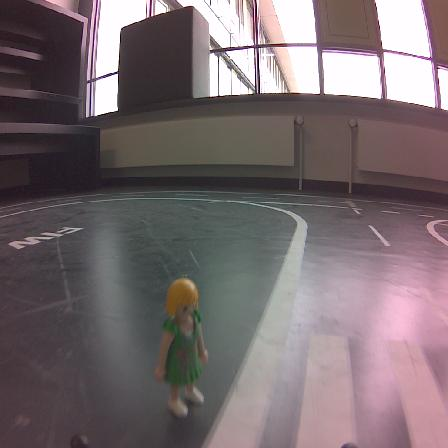PERSON: (155, 278, 207, 417)
